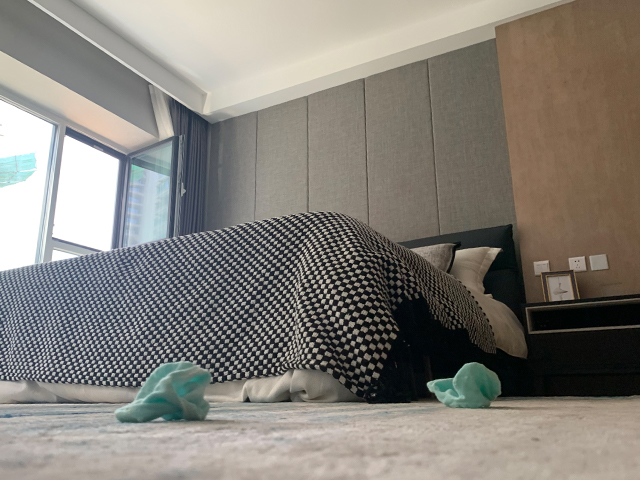bed: (1, 210, 526, 407)
cabinet: (515, 293, 640, 399)
carpet: (1, 396, 640, 480)
socks: (113, 359, 214, 425), (423, 360, 505, 410)
